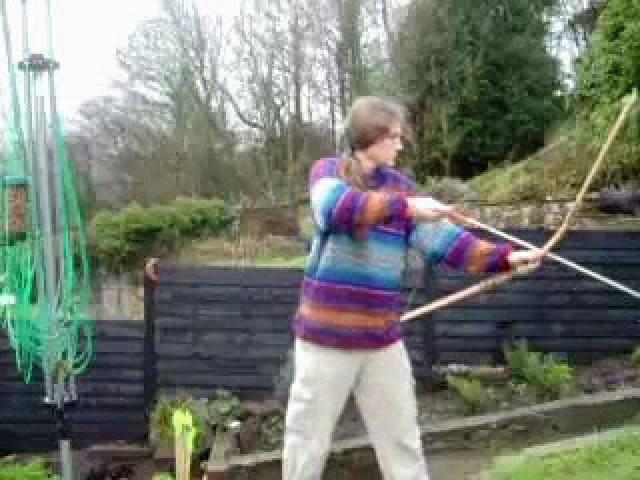I: (268, 97, 565, 480)
